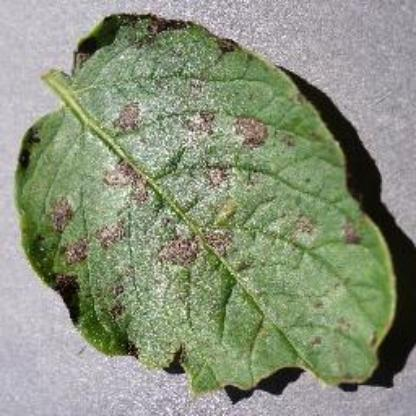Early-Blight: (13, 9, 400, 399)
